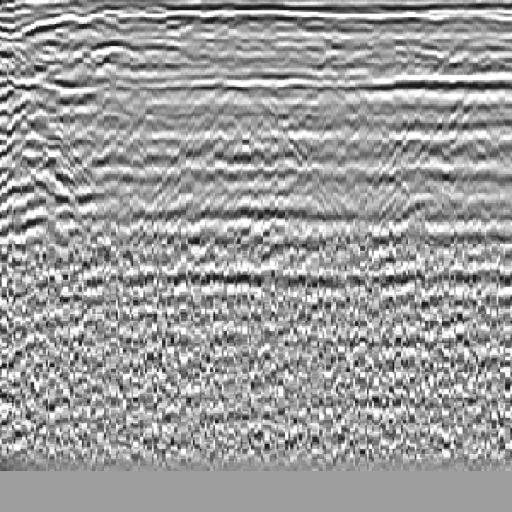non-metallic: (1, 29, 103, 267)
